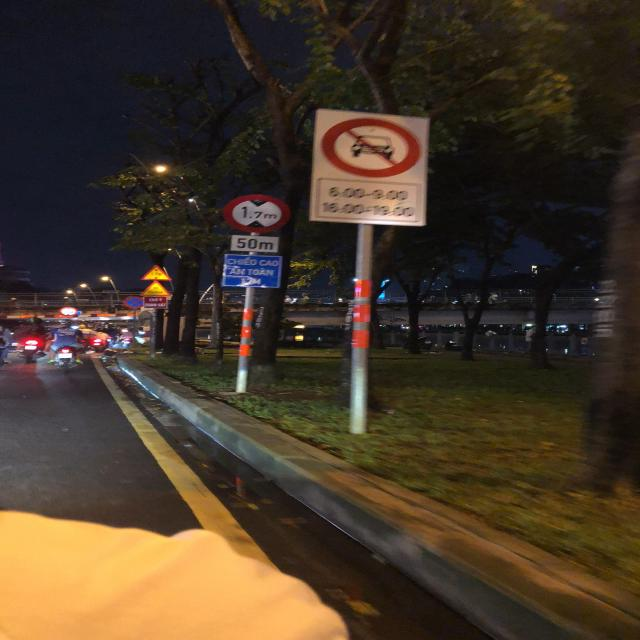Bien bao cam dung xe va do xe: (121, 295, 148, 310)
Bien bao cam xe oto: (317, 113, 428, 178)
Bien bao chieu cao tinh khong thuc te: (137, 264, 174, 282)
Bien bao di cham: (140, 279, 174, 297)
Bien bao han che chieu cao: (219, 192, 295, 234)
